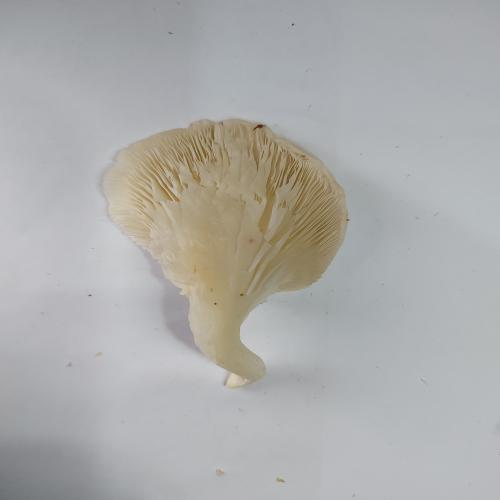Oyster Mushroom: (101, 117, 350, 389)
